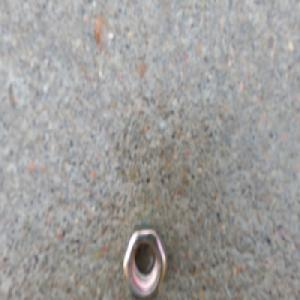Nut: (122, 224, 170, 298)
